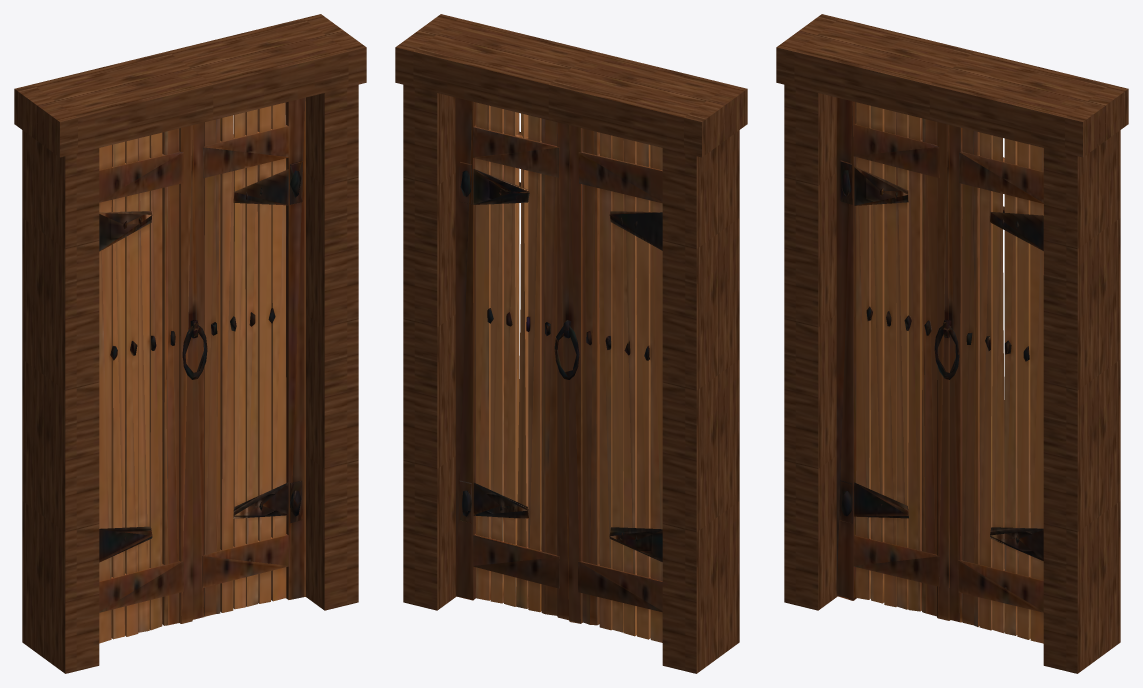
File: door-studded.lod1.glb
3 renders of one model, left to right at view 1: azimuth 30°, elevation 25°; view 2: azimuth 150°, elevation 25°; view 3: azimuth 330°, elevation 25°, orthographic.
Parts seen in each view (by area): view 1: Leaf, Frame; view 2: Leaf, Frame; view 3: Leaf, Frame.
Part boxes in pixels (bbox=[...]): Leaf: bbox=[99, 97, 305, 643]; Frame: bbox=[14, 14, 366, 673]; Leaf: bbox=[455, 97, 662, 642]; Frame: bbox=[395, 14, 747, 673]; Leaf: bbox=[836, 97, 1043, 643]; Frame: bbox=[776, 14, 1128, 673].
Size of the model in its own units: 1.36 by 2.35 by 0.35.
Materials: 2 (2 with a texture image).
